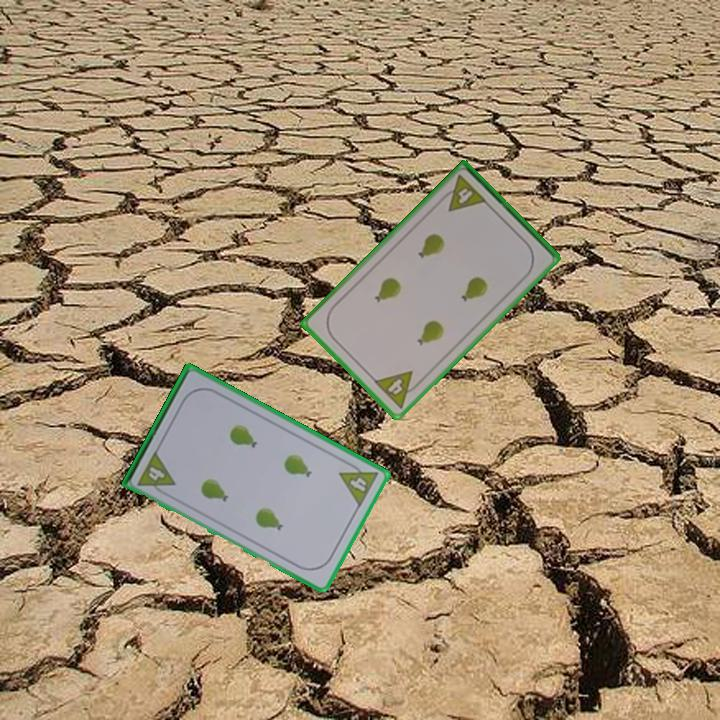4p: (370, 367, 425, 412), (336, 457, 381, 510), (436, 172, 490, 215), (134, 447, 178, 499)
